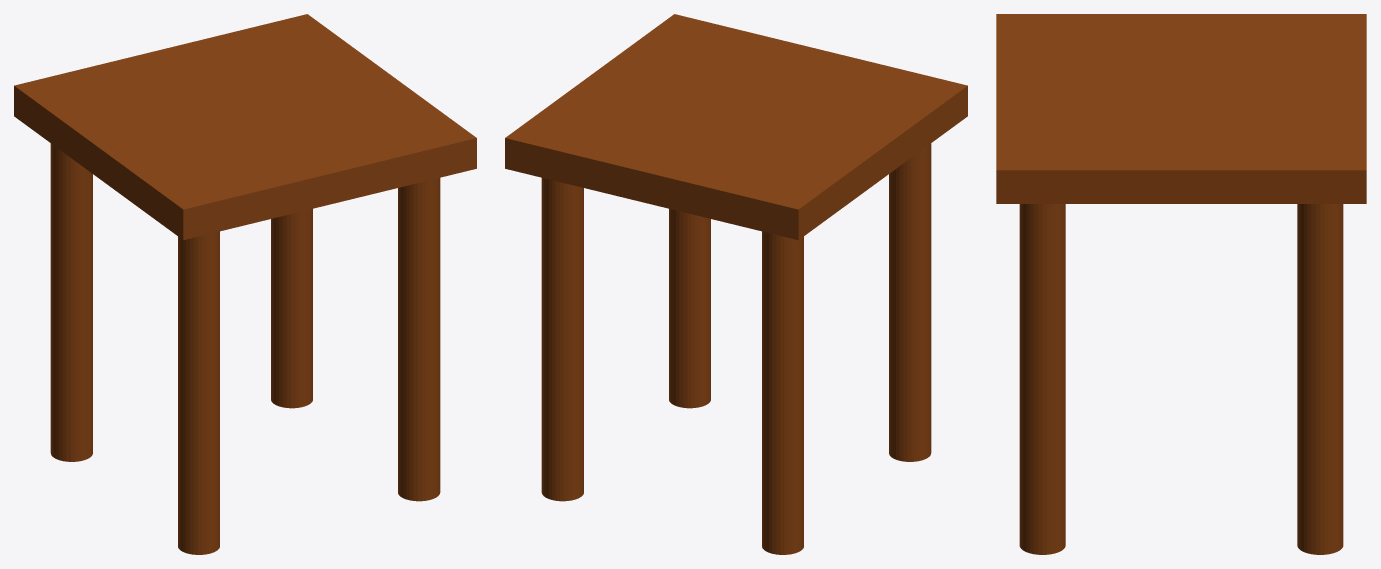
Rendered from chiar_test.obj.
3 renders of one model, left to right at view 1: azimuth 30°, elevation 25°; view 2: azimuth 150°, elevation 25°; view 3: azimuth 270°, elevation 25°, orthographic. The views are drawn at different scales.
Parts seen in each view (by area): view 1: Seat, Leg_2, Leg_1, Leg_3, Leg_4; view 2: Seat, Leg_4, Leg_3, Leg_1, Leg_2; view 3: Seat, Leg_2, Leg_4.
Boxes of the visible parts, left/top/right/bottom form: Seat: left=14, top=14, right=476, bottom=240; Leg_2: left=398, top=178, right=440, bottom=501; Leg_1: left=178, top=231, right=219, bottom=554; Leg_3: left=50, top=143, right=92, bottom=461; Leg_4: left=271, top=209, right=312, bottom=408; Seat: left=505, top=14, right=967, bottom=240; Leg_4: left=541, top=178, right=583, bottom=501; Leg_3: left=762, top=231, right=803, bottom=554; Leg_1: left=889, top=143, right=931, bottom=461; Leg_2: left=669, top=209, right=710, bottom=408; Seat: left=996, top=14, right=1366, bottom=203; Leg_2: left=1019, top=204, right=1065, bottom=554; Leg_4: left=1297, top=204, right=1343, bottom=554.
Size of the model in its own units: 0.8 by 0.94 by 0.8.
